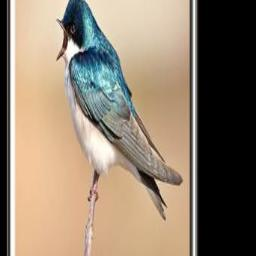Swallow: (53, 0, 184, 224)
